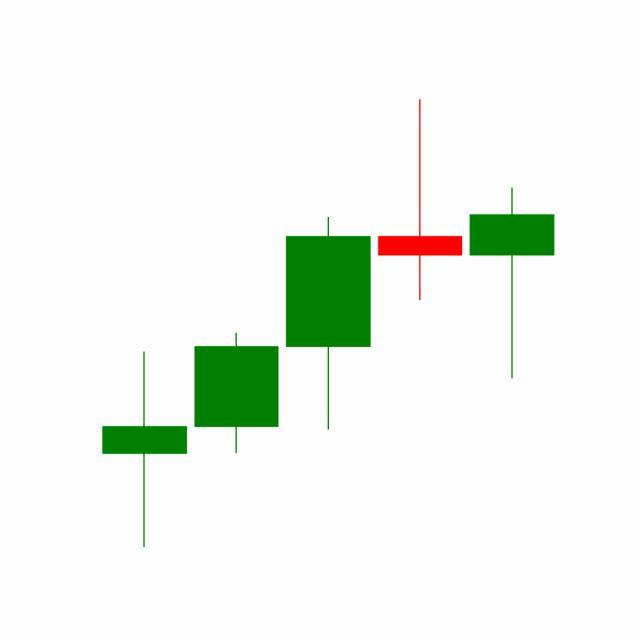Spinning Top: (374, 97, 468, 304)
